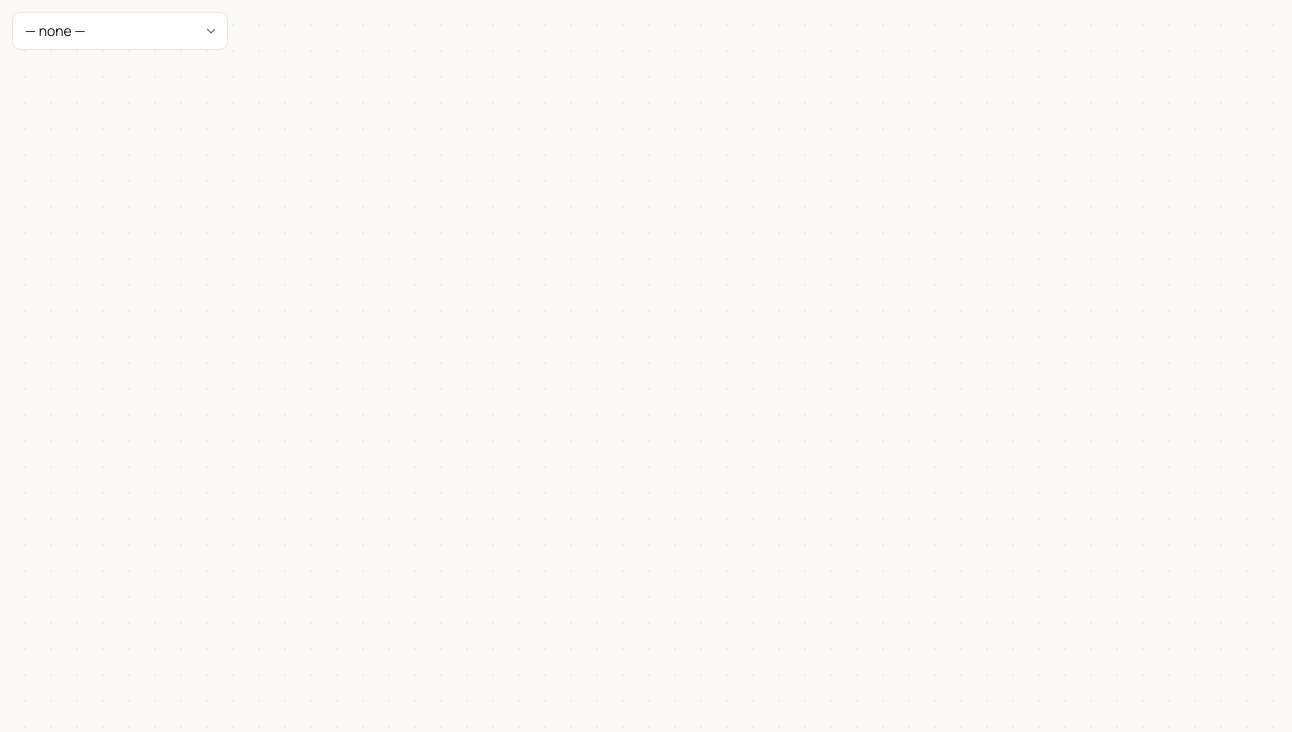
Test: SearchSelect › filters options by what is typed, case-insensitively
This screenshot has width=1292, height=732.
Replace the text in the dropdown named "Linked vacancy" with "front". click: (120, 31)
box: [12,12,228,50]
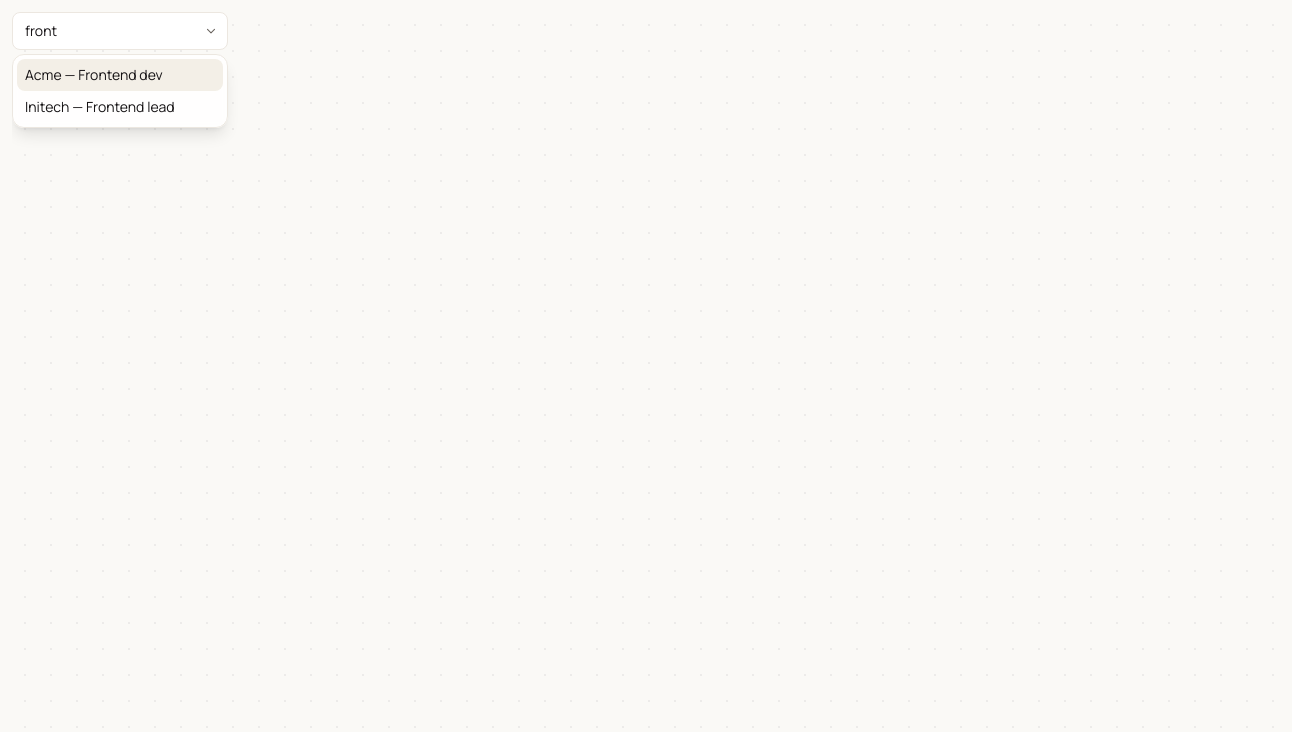
expect the options read "Acme — Frontend dev", "Initech — Frontend lead", in this order: met, box [17,59,223,91]; [17,91,223,123]
